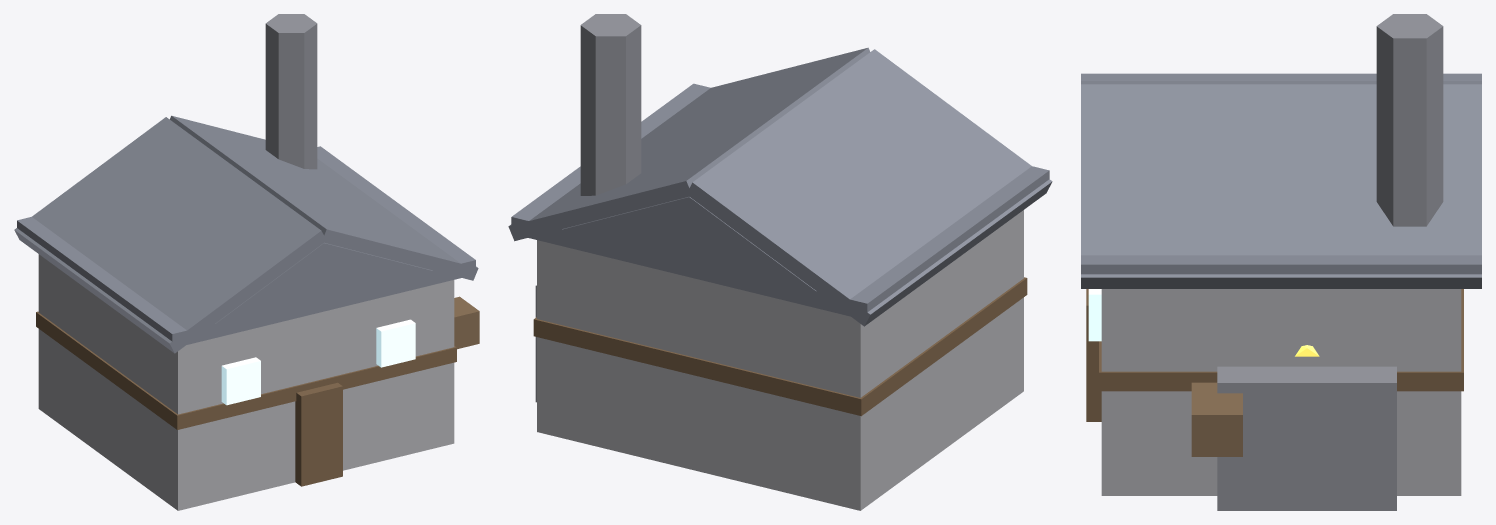
File: blacksmith.glb
3 views of the same model, side by side, from view 1: azimuth 30°, elevation 25°; view 2: azimuth 150°, elevation 25°; view 3: azimuth 270°, elevation 25° (orthographic). The views are drawn at different scales.
Parts seen in each view (by area): view 1: BlacksmithWall; view 2: BlacksmithWall; view 3: BlacksmithWall.
Part boxes in pixels (box(x1,y1,x2,y2)): BlacksmithWall: box(14, 14, 479, 510); BlacksmithWall: box(508, 14, 1052, 510); BlacksmithWall: box(1081, 14, 1481, 510).
Size of the model in its own units: 2.05 by 1.9 by 1.56.
